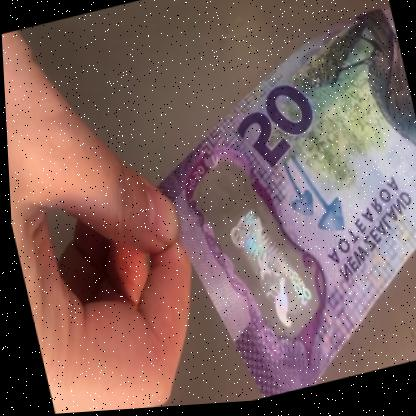50B: (201, 164, 315, 346)
